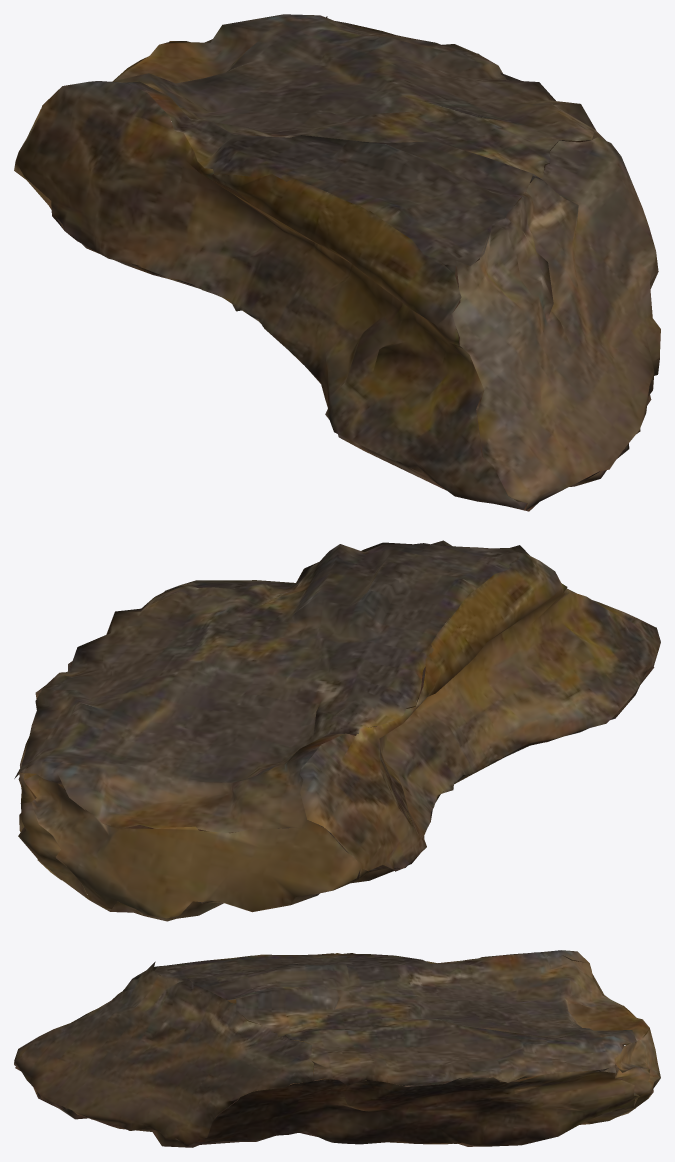
Rendered from pedra_rio_b.glb.
3 renders of one model, top to bottom at view 1: azimuth 30°, elevation 25°; view 2: azimuth 150°, elevation 25°; view 3: azimuth 270°, elevation 25°, orthographic. The views are drawn at different scales.
Visible parts, largest first — view 1: pedra_rio_b; view 2: pedra_rio_b; view 3: pedra_rio_b.
Boxes of the visible parts, x1,y1,x2,y2 form: pedra_rio_b: [14, 14, 660, 511]; pedra_rio_b: [14, 540, 660, 921]; pedra_rio_b: [14, 950, 660, 1147].
Bounding box in the file's own units: 0.0739 × 0.0326 × 0.1448.
1 material, 1 textured.
